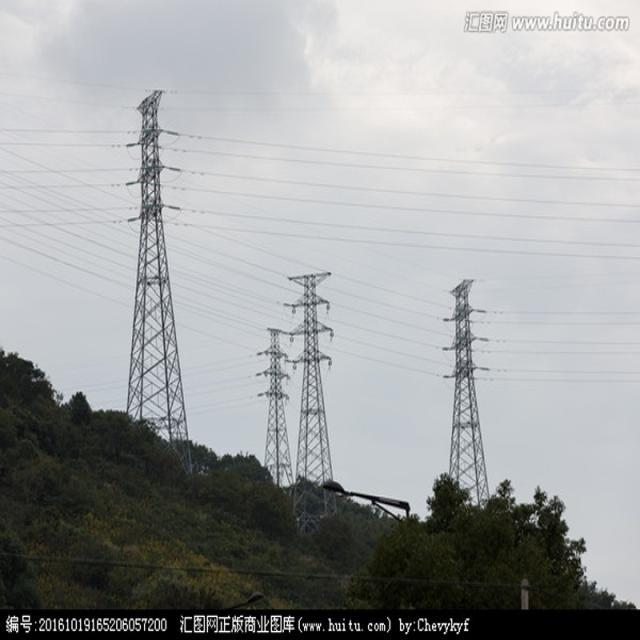non-critical vegetation: (125, 83, 191, 431), (440, 284, 501, 512), (286, 266, 340, 495), (250, 321, 293, 487)
